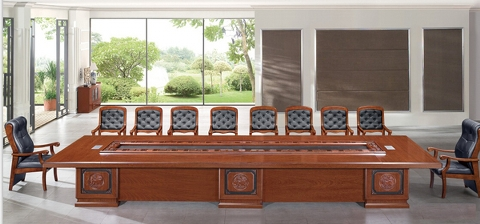kursi: (4, 116, 60, 191), (427, 119, 480, 198), (91, 106, 127, 135), (321, 106, 355, 136), (130, 106, 163, 136), (358, 106, 392, 135), (167, 106, 199, 136), (285, 106, 316, 135), (208, 107, 239, 135), (250, 106, 278, 135)
meja: (42, 136, 445, 209)
